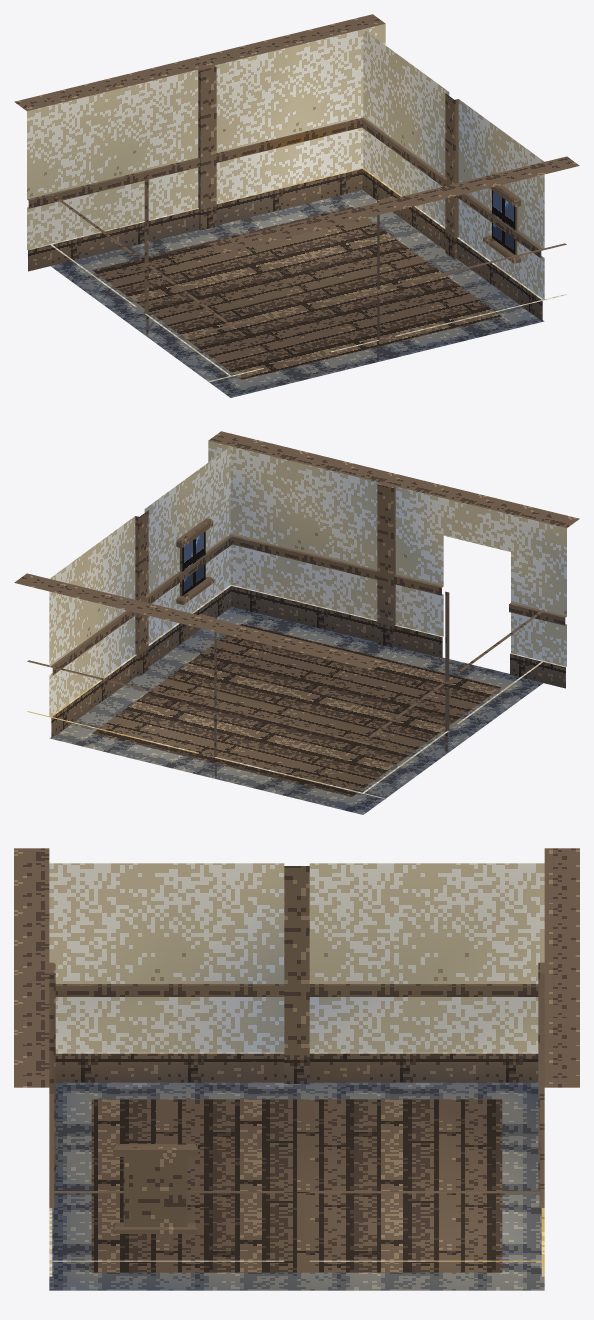
The model's file is vlg.room__cottage.glb.
3 renders of one model, top to bottom at view 1: azimuth 30°, elevation 25°; view 2: azimuth 150°, elevation 25°; view 3: azimuth 270°, elevation 25°, orthographic. The views are drawn at different scales.
Parts seen in each view (by area): view 1: kit_shell_walls, kit_shell_floor, kit_fittings; view 2: kit_shell_walls, kit_shell_floor, kit_fittings; view 3: kit_shell_walls, kit_shell_floor, kit_fittings.
Part boxes in pixels (x1,y1,x2,y2): kit_shell_walls: (14, 14, 579, 382); kit_shell_floor: (50, 190, 544, 397); kit_fittings: (483, 185, 521, 263); kit_shell_walls: (14, 431, 579, 799); kit_shell_floor: (49, 607, 543, 814); kit_fittings: (176, 518, 214, 604); kit_shell_walls: (14, 848, 579, 1276); kit_shell_floor: (49, 1082, 544, 1290); kit_fittings: (113, 1144, 197, 1233).
Bounding box in the file's own units: 8 × 3.4 × 8.
Materials: 6 (6 with a texture image).
